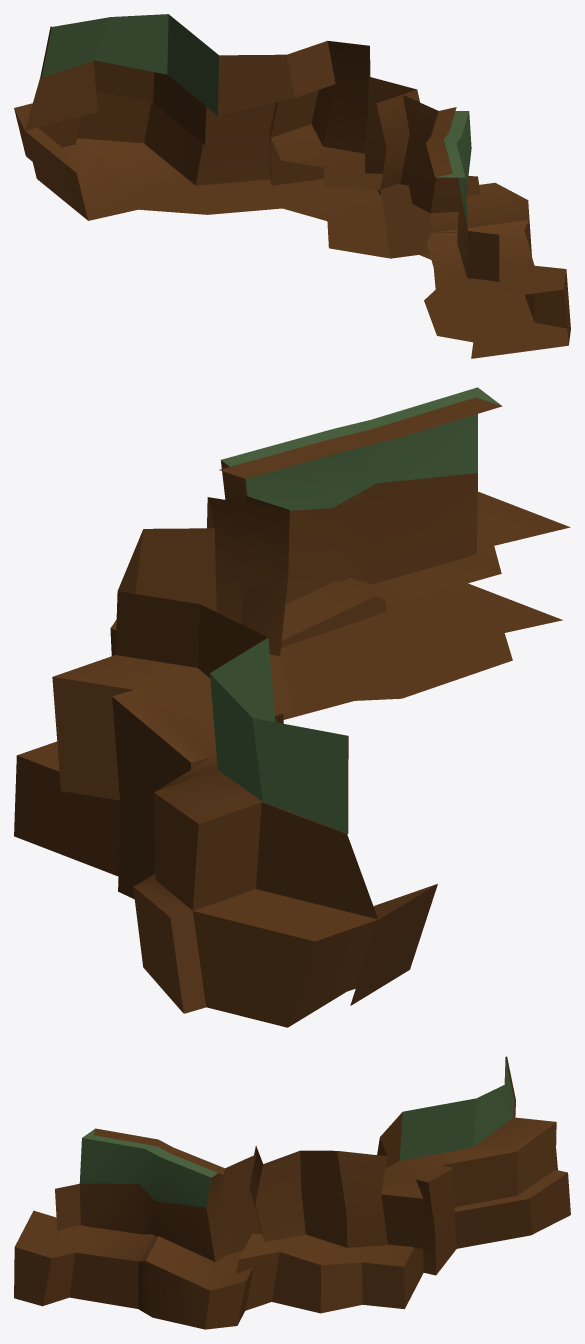
File: Environment_Asset_Mountain 1.fbx
3 views of the same model, one above another, from view 1: azimuth 30°, elevation 25°; view 2: azimuth 150°, elevation 25°; view 3: azimuth 270°, elevation 25° (orthographic). The views are drawn at different scales.
Visible parts, largest first — view 1: Plane.011; view 2: Plane.011; view 3: Plane.011.
Part boxes in pixels (x1=…): Plane.011: x1=14, y1=14, x2=570, y2=358; Plane.011: x1=14, y1=387, x2=570, y2=1027; Plane.011: x1=14, y1=1056, x2=570, y2=1329.
Bounding box in the file's own units: 736 × 362 × 1257.
